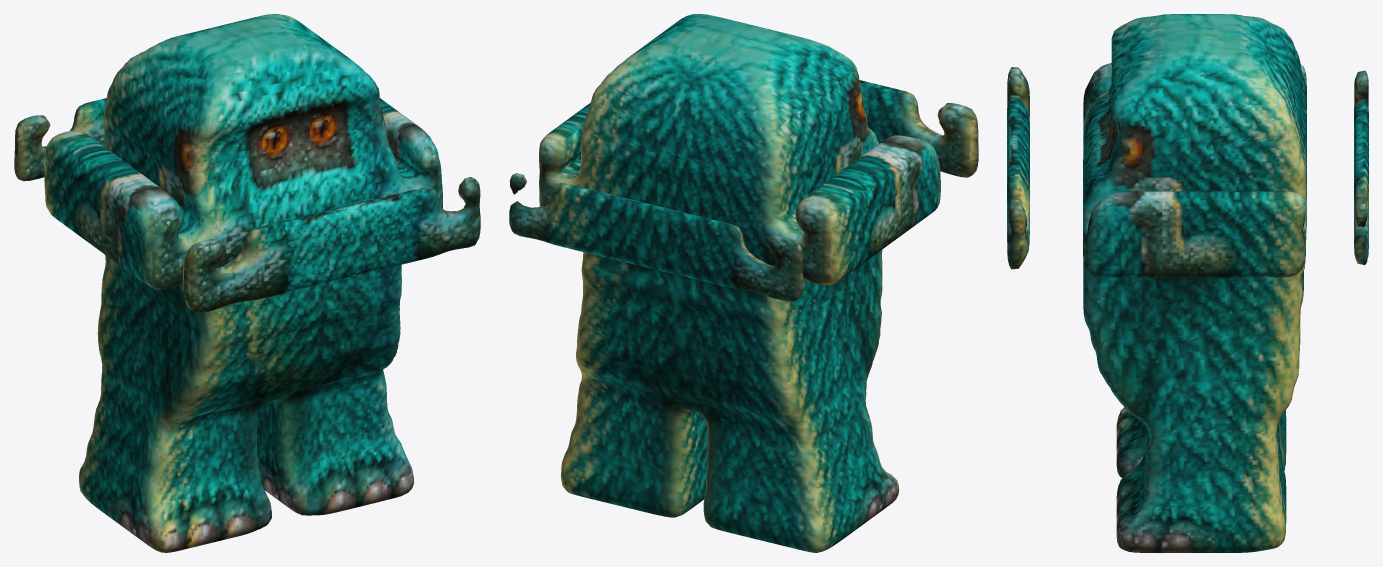
The model's file is organisch-proefmodel.glb.
3 views of the same model, side by side, from view 1: azimuth 30°, elevation 25°; view 2: azimuth 150°, elevation 25°; view 3: azimuth 270°, elevation 25° (orthographic).
Visible parts, largest first — view 1: 02-schouderreus-turkoois-voorkant-zijkant-achterkant; view 2: 02-schouderreus-turkoois-voorkant-zijkant-achterkant; view 3: 02-schouderreus-turkoois-voorkant-zijkant-achterkant.
Boxes of the visible parts, x1,y1,x2,y2 form: 02-schouderreus-turkoois-voorkant-zijkant-achterkant: (14, 14, 480, 552); 02-schouderreus-turkoois-voorkant-zijkant-achterkant: (509, 14, 978, 552); 02-schouderreus-turkoois-voorkant-zijkant-achterkant: (1007, 14, 1368, 552).
Size of the model in its own units: 1.61 by 2.39 by 1.68.
